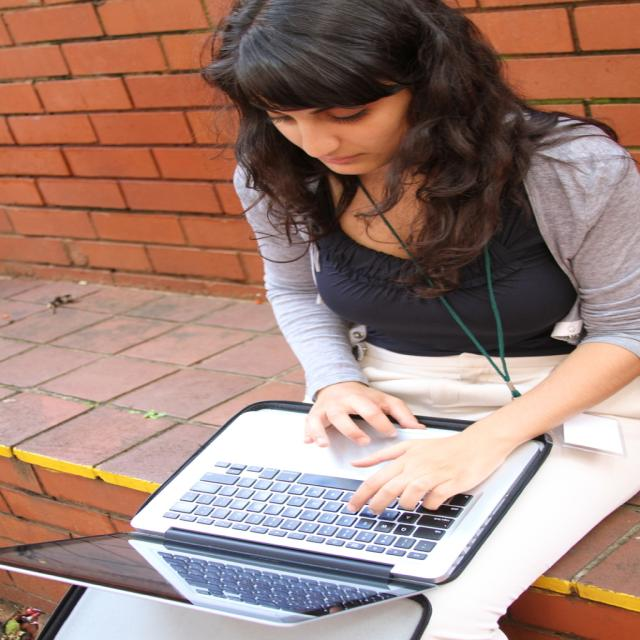keyboard-with-hands: (124, 403, 542, 581)
